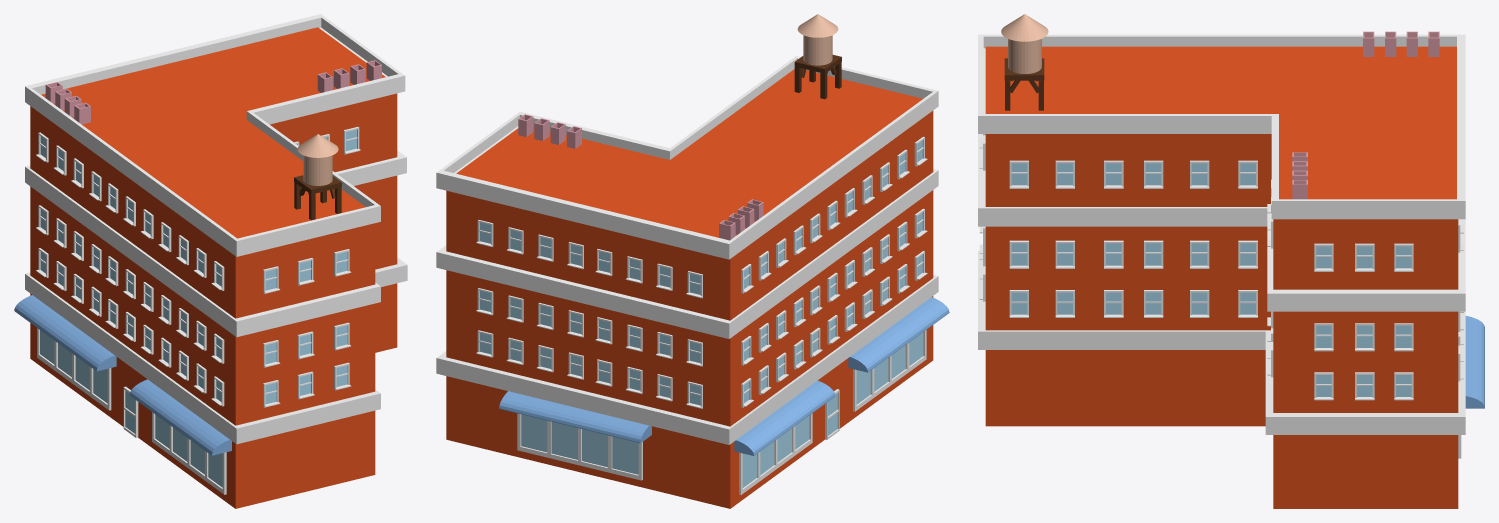
Rendered from House_Big.fbx.
The picture shows the model from 3 angles, left to right: view 1: azimuth 30°, elevation 25°; view 2: azimuth 150°, elevation 25°; view 3: azimuth 270°, elevation 25°; orthographic projection. The views are drawn at different scales.
Visible parts, largest first — view 1: Cube.230, Cube.231, Cube.232, Cube.233, Cube.451, Cube.452, Cylinder.014, Cube.445, Cube.448, Cone.003, Cube.453, Cube.434 (+6 smaller); view 2: Cube.230, Cube.231, Cube.233, Cube.232, Cube.454, Cube.451, Cube.452, Cube.456, Cube.458, Cube.457, Cube.455, Cylinder.014 (+7 smaller); view 3: Cube.230, Cube.231, Cube.233, Cube.232, Cube.454, Cylinder.014, Cone.003, Cube.406, Cube.403, Cube.412, Cube.409, Cube.431 (+22 smaller).
Part boxes in pixels (bbox=[...]): Cube.230: bbox=[30, 27, 397, 508]; Cube.231: bbox=[25, 14, 405, 256]; Cube.232: bbox=[25, 150, 406, 337]; Cube.233: bbox=[25, 257, 407, 444]; Cube.451: bbox=[129, 379, 231, 455]; Cube.452: bbox=[14, 295, 116, 371]; Cylinder.014: bbox=[303, 155, 332, 185]; Cube.445: bbox=[90, 367, 111, 410]; Cube.448: bbox=[205, 452, 226, 494]; Cone.003: bbox=[297, 134, 338, 157]; Cube.453: bbox=[123, 386, 138, 437]; Cube.434: bbox=[294, 182, 341, 220]; Cube.230: bbox=[446, 69, 933, 508]; Cube.231: bbox=[436, 56, 938, 259]; Cube.233: bbox=[436, 275, 938, 444]; Cube.232: bbox=[436, 169, 938, 338]; Cube.454: bbox=[499, 391, 651, 443]; Cube.451: bbox=[848, 297, 949, 372]; Cube.452: bbox=[734, 380, 835, 455]; Cube.456: bbox=[608, 436, 642, 480]; Cube.458: bbox=[517, 413, 550, 457]; Cube.457: bbox=[548, 421, 580, 464]; Cube.455: bbox=[578, 428, 610, 472]; Cylinder.014: bbox=[803, 35, 832, 65]; Cube.230: bbox=[985, 46, 1458, 508]; Cube.231: bbox=[978, 34, 1465, 219]; Cube.233: bbox=[978, 250, 1465, 434]; Cube.232: bbox=[978, 134, 1465, 311]; Cube.454: bbox=[1465, 316, 1484, 408]; Cylinder.014: bbox=[1008, 39, 1041, 73]; Cone.003: bbox=[1001, 14, 1048, 41]; Cube.406: bbox=[1104, 240, 1123, 268]; Cube.403: bbox=[1238, 240, 1257, 268]; Cube.412: bbox=[1238, 160, 1257, 188]; Cube.409: bbox=[1104, 160, 1123, 188]; Cube.431: bbox=[1394, 243, 1413, 271].
Size of the model in its own units: 3447 by 3552 by 4188.
